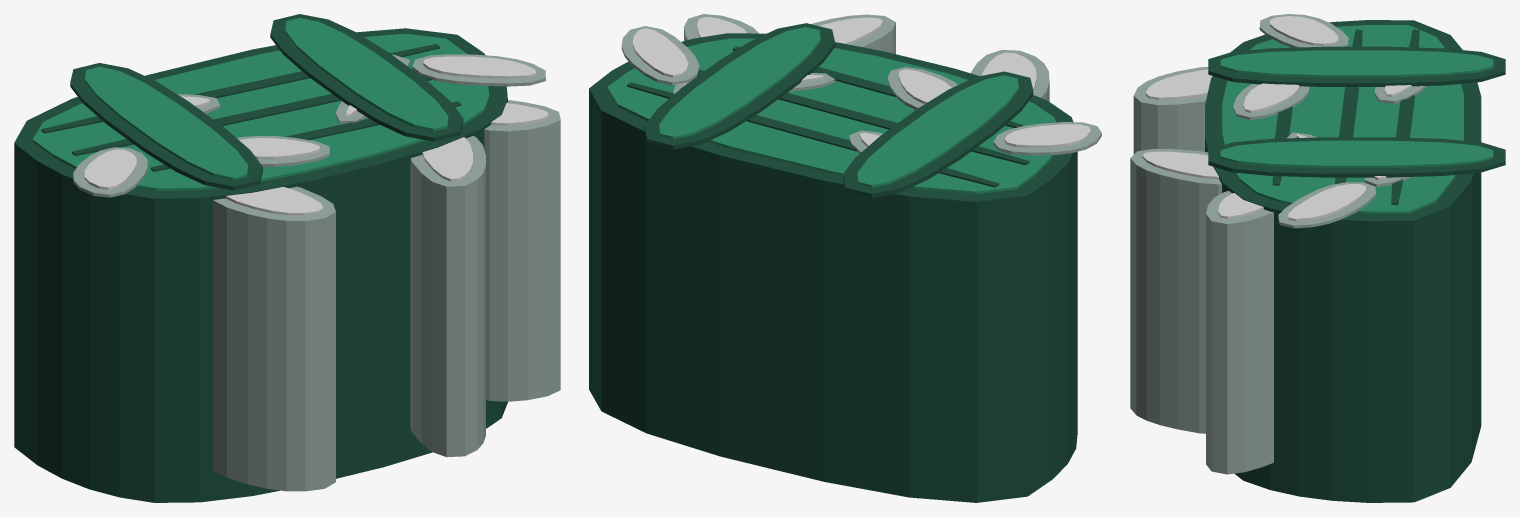
Rendered from bag_cacto_espinhos.fbx.
The picture shows the model from 3 angles, left to right: view 1: azimuth 30°, elevation 25°; view 2: azimuth 150°, elevation 25°; view 3: azimuth 270°, elevation 25°; orthographic projection. The views are drawn at different scales.
Visible parts, largest first — view 1: bag_cacto_espinhos_mochila; view 2: bag_cacto_espinhos_mochila; view 3: bag_cacto_espinhos_mochila.
Part boxes in pixels (left/top/right/bottom): bag_cacto_espinhos_mochila: left=14, top=14, right=560, bottom=502; bag_cacto_espinhos_mochila: left=589, top=14, right=1101, bottom=502; bag_cacto_espinhos_mochila: left=1130, top=14, right=1505, bottom=502.
Bounding box in the file's own units: 2.9 × 1.88 × 2.17.
1 material, 1 textured.
